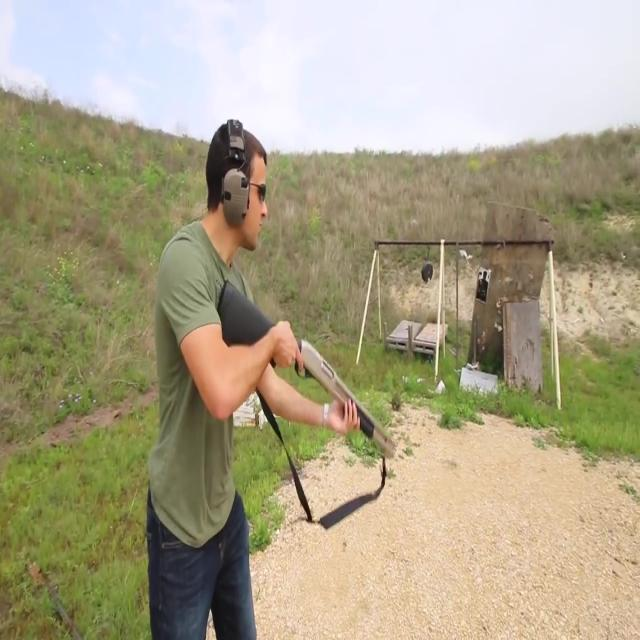Weapon: (206, 277, 413, 529)
